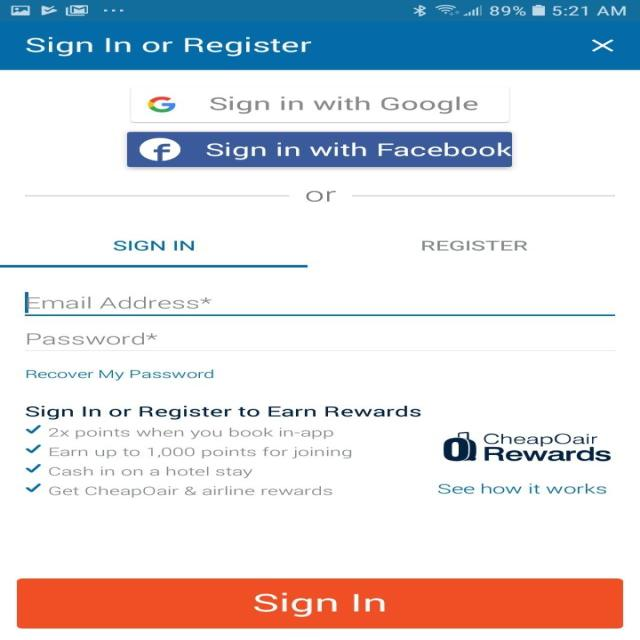EditText: (24, 291, 615, 316), (24, 332, 615, 351)
Icon: (590, 39, 614, 52), (26, 424, 42, 434), (26, 483, 42, 492), (25, 463, 41, 472), (26, 444, 42, 453)
Image: (442, 432, 476, 462)
Text: (25, 36, 312, 57), (24, 405, 420, 419), (482, 433, 610, 462), (48, 485, 332, 498), (49, 446, 351, 458), (48, 427, 334, 439), (25, 368, 214, 381), (48, 466, 252, 478), (25, 296, 212, 309), (438, 483, 606, 494), (26, 332, 158, 345), (420, 240, 528, 251), (114, 240, 194, 251), (305, 190, 336, 202)
TextButton: (16, 578, 622, 628), (128, 86, 510, 123), (126, 132, 511, 168)
